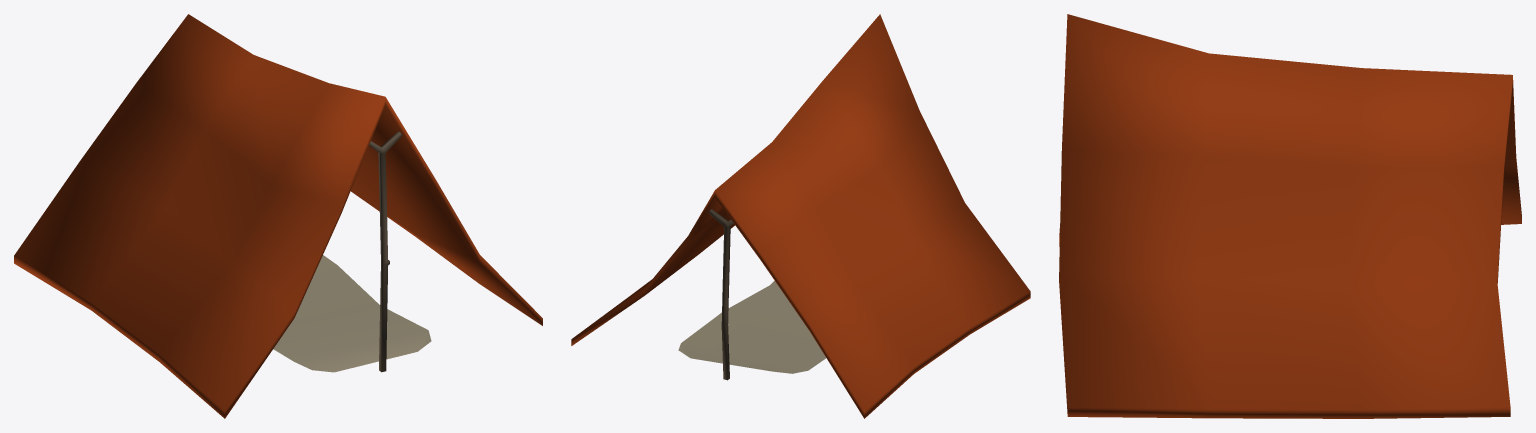
The model's file is low-poly_tent.glb.
3 views of the same model, side by side, from view 1: azimuth 30°, elevation 25°; view 2: azimuth 150°, elevation 25°; view 3: azimuth 270°, elevation 25° (orthographic). The views are drawn at different scales.
Visible parts, largest first — view 1: Camp; view 2: Camp; view 3: Camp.
Part boxes in pixels (box(x1,y1,x2,y2)): Camp: box(14, 14, 542, 418); Camp: box(571, 14, 1030, 418); Camp: box(1059, 14, 1521, 418).
Size of the model in its own units: 2.03 by 1.62 by 2.08.
Materials: 1 (1 with a texture image).
